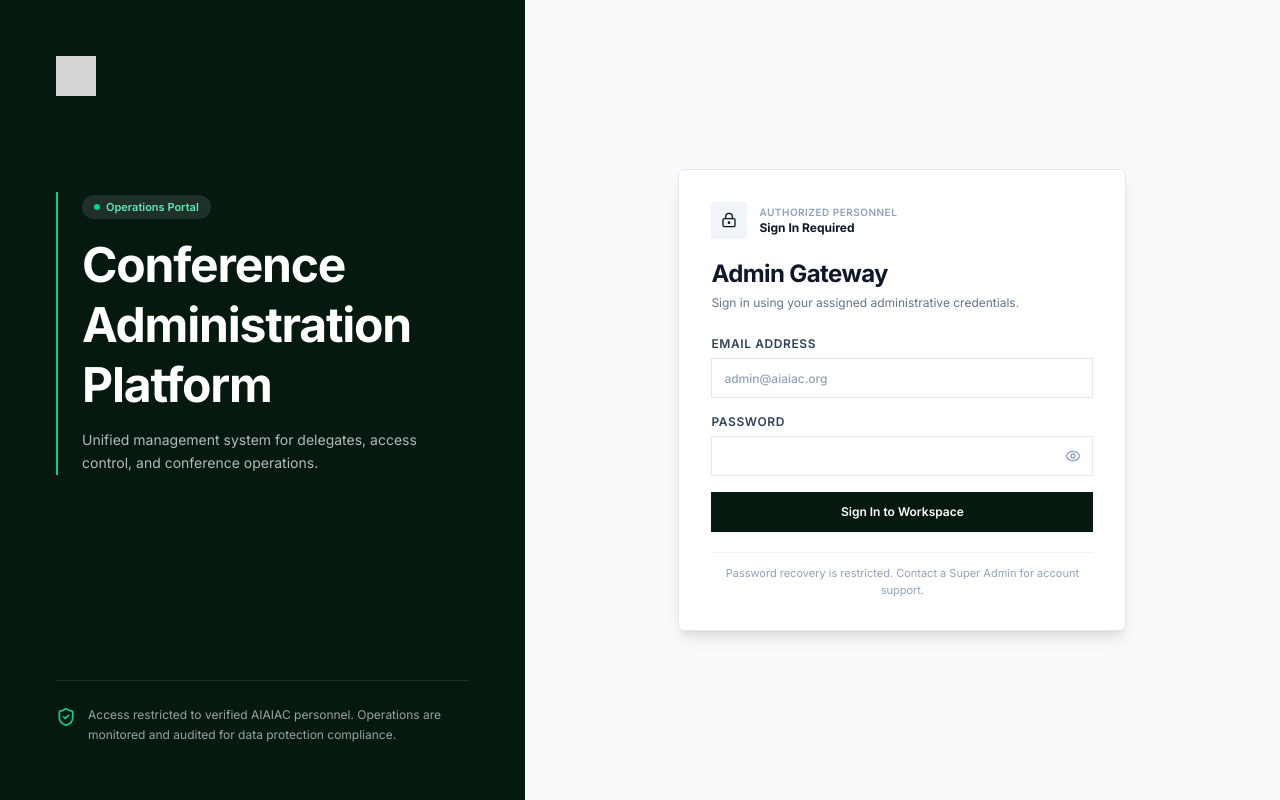
Scenario: Admin authentication and layout › shows a generic invalid-credentials message for a login 401
Expected: the heading "Admin Gateway" is shown, [711,259,888,288]
Type "admin@example.com" into the field labelled "Email Address" at (902, 378), box [711,358,1093,398]
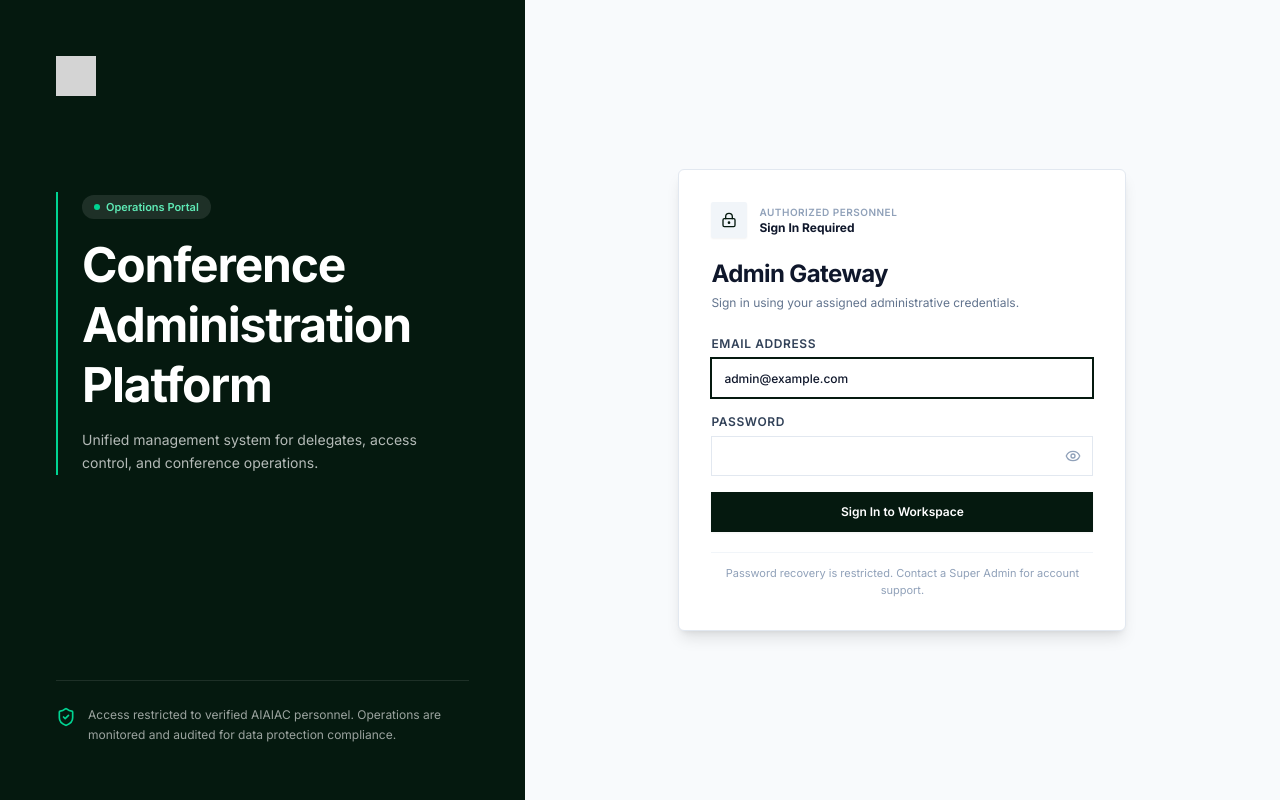
Type "incorrect-password" into the password field labelled "Password" at (902, 456), box [711,436,1093,476]
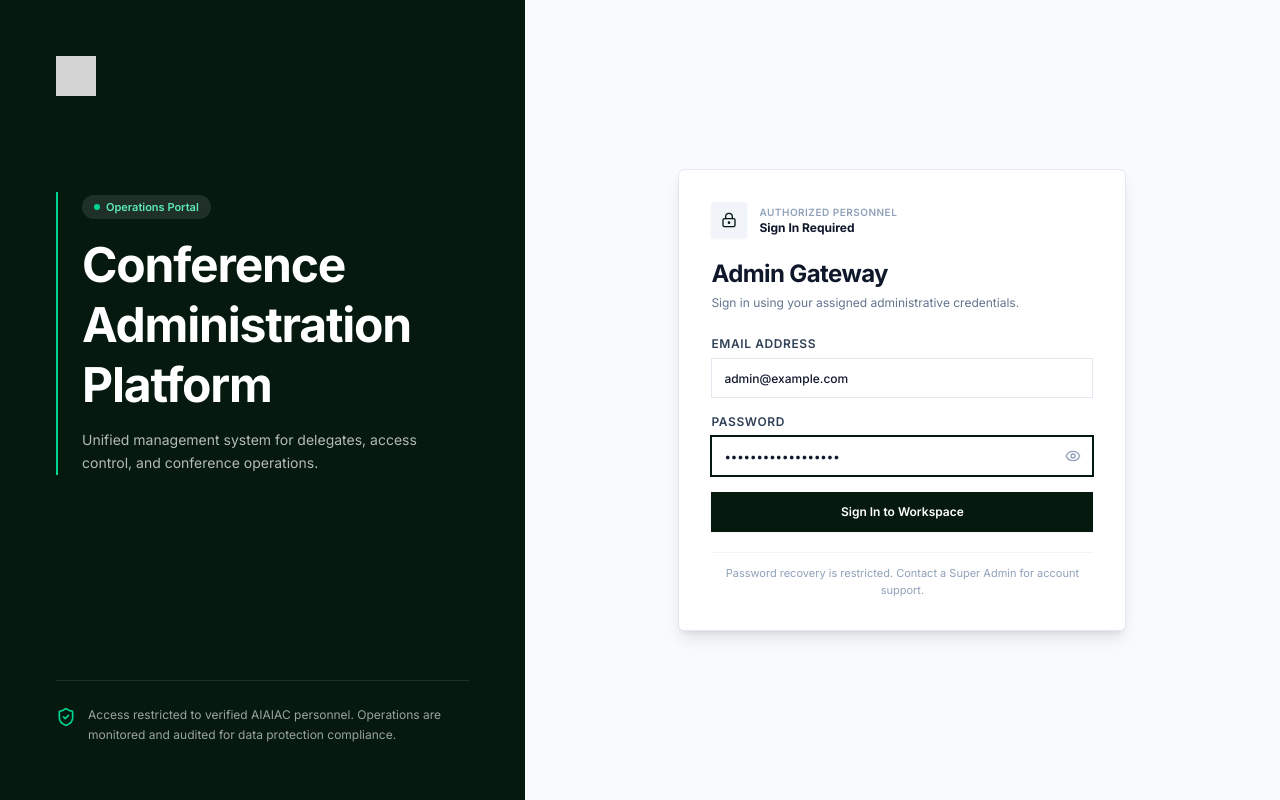
Click the button "Sign In to Workspace" at (902, 512), box [711,492,1093,532]
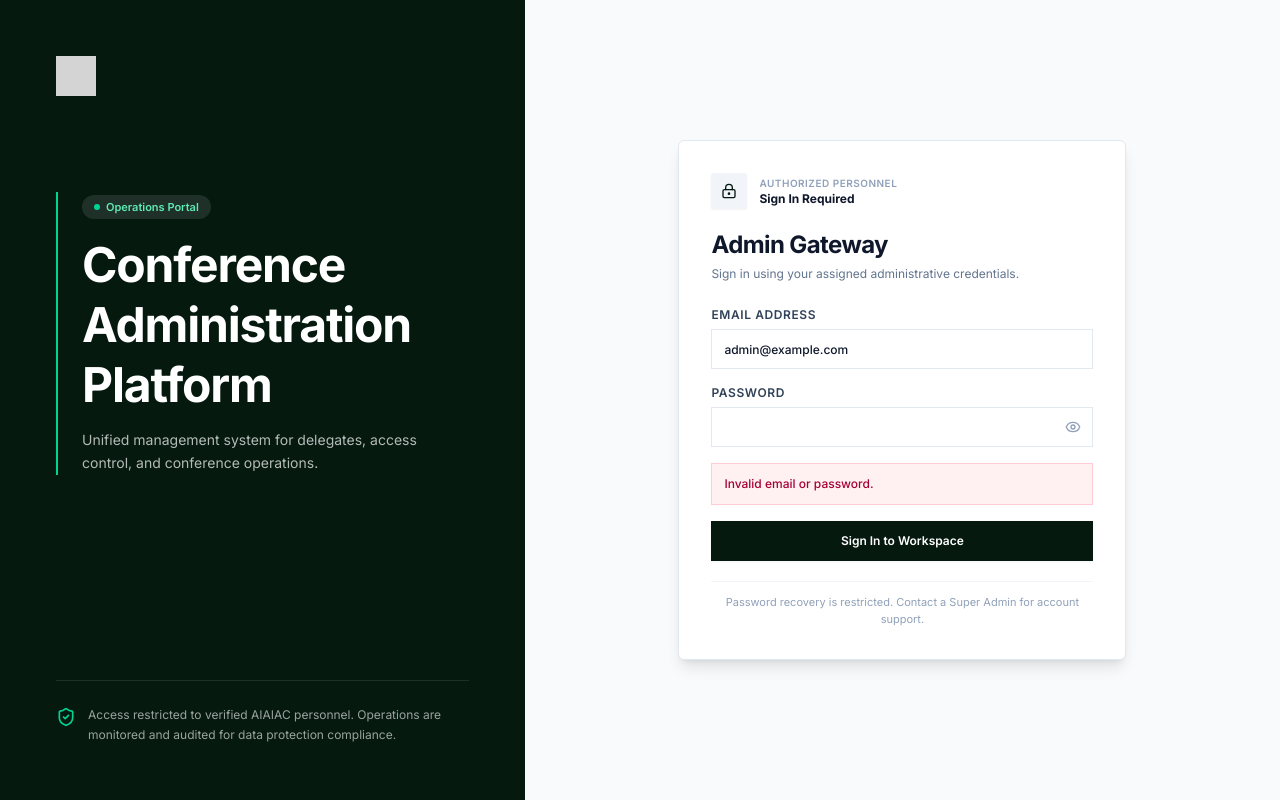
Expected: the message does not show "Internal authentication detail", [711,463,1093,505]
Expected: the message reads "Invalid email or password.", [724,476,874,491]
